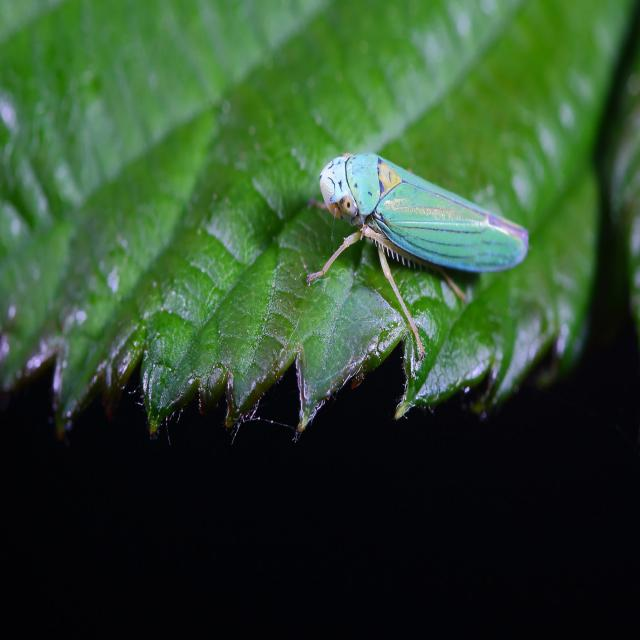Yechan: (312, 150, 536, 298)
